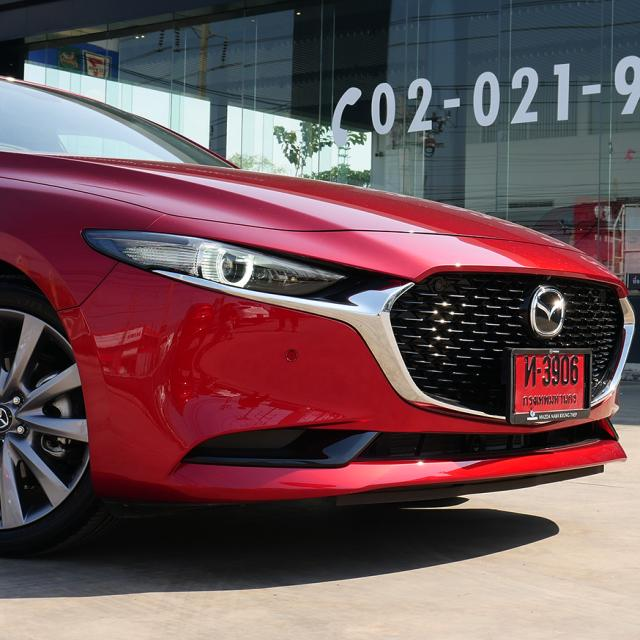license_plate: (499, 341, 601, 431)
